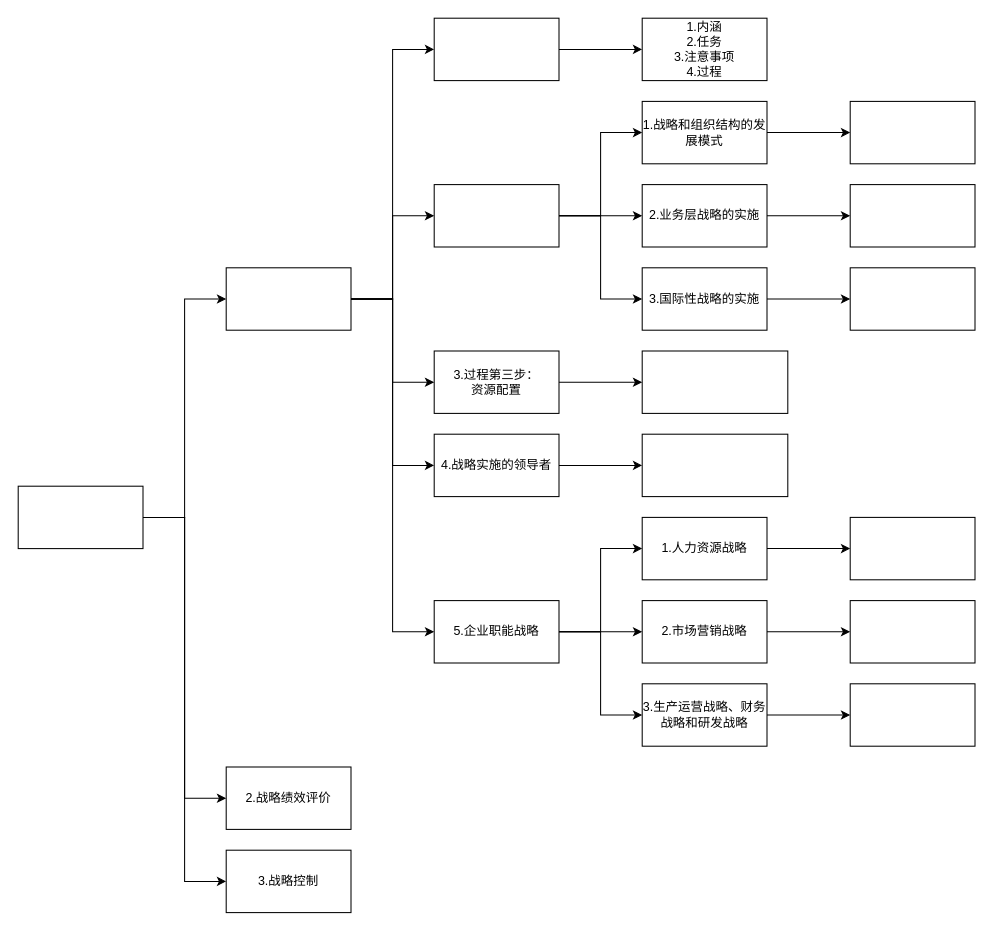
This 993x931 diagram has some shape labels left out. Here are the shapes that lost their labels. From the top down, the box of each, then its label:
(433, 17, 559, 81): 1.战略实施的任务与过程
(433, 184, 559, 247): 2.过程第二步： 组织结构调整
(225, 267, 351, 330): 1.战略实施
(641, 350, 788, 413): 1.概述 2.企业战略与资源的关系 3.企业资源的分配 4.战略与资源的动态组合
(641, 433, 788, 497): 1.企业战略实施领导者的管理任务 2.企业战略实施领导者与企业战略类型的关系 3.实践的基本模式
(17, 485, 143, 549): 战略实施、评价与控制
